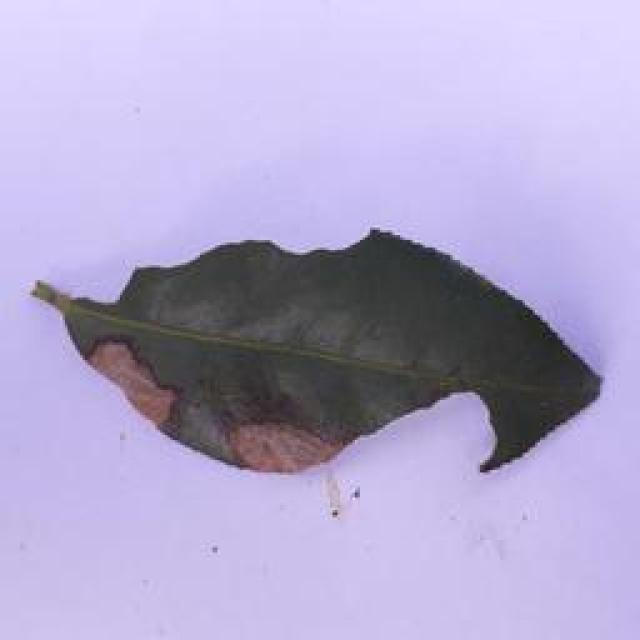Gray Blight: (29, 222, 618, 490)
